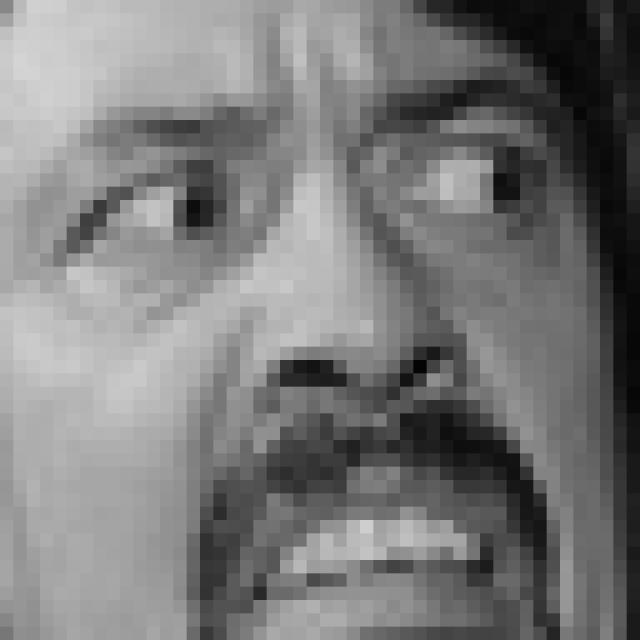disgust: (47, 75, 565, 640)
